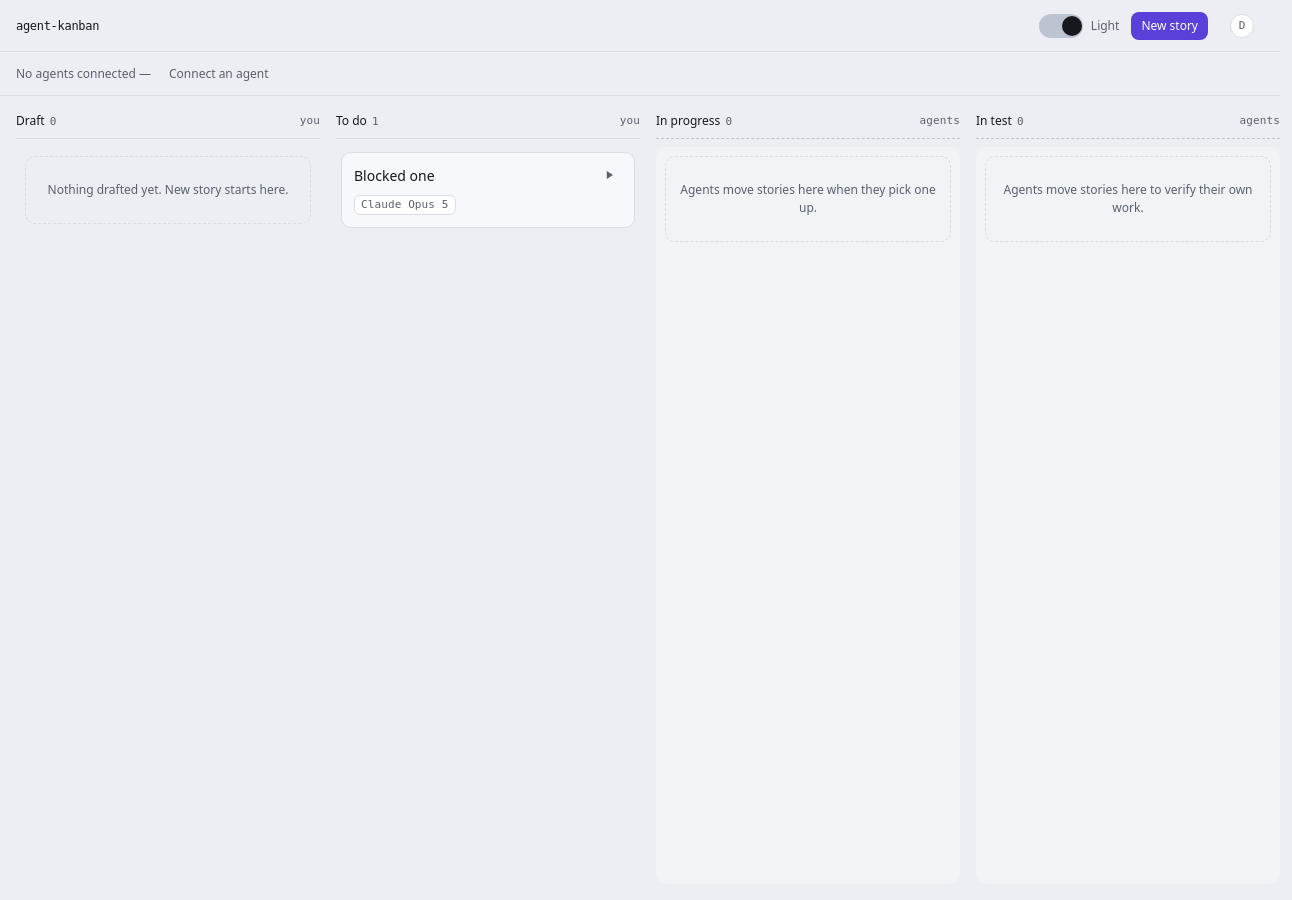
it: BoardScreen — play and stop › shows a refused play as a dismissable toast
Expected: the button "Blocked one" is shown, [354, 165, 622, 187]
Click the button named "Start Blocked one". click: (609, 175)
box: [592, 161, 626, 189]
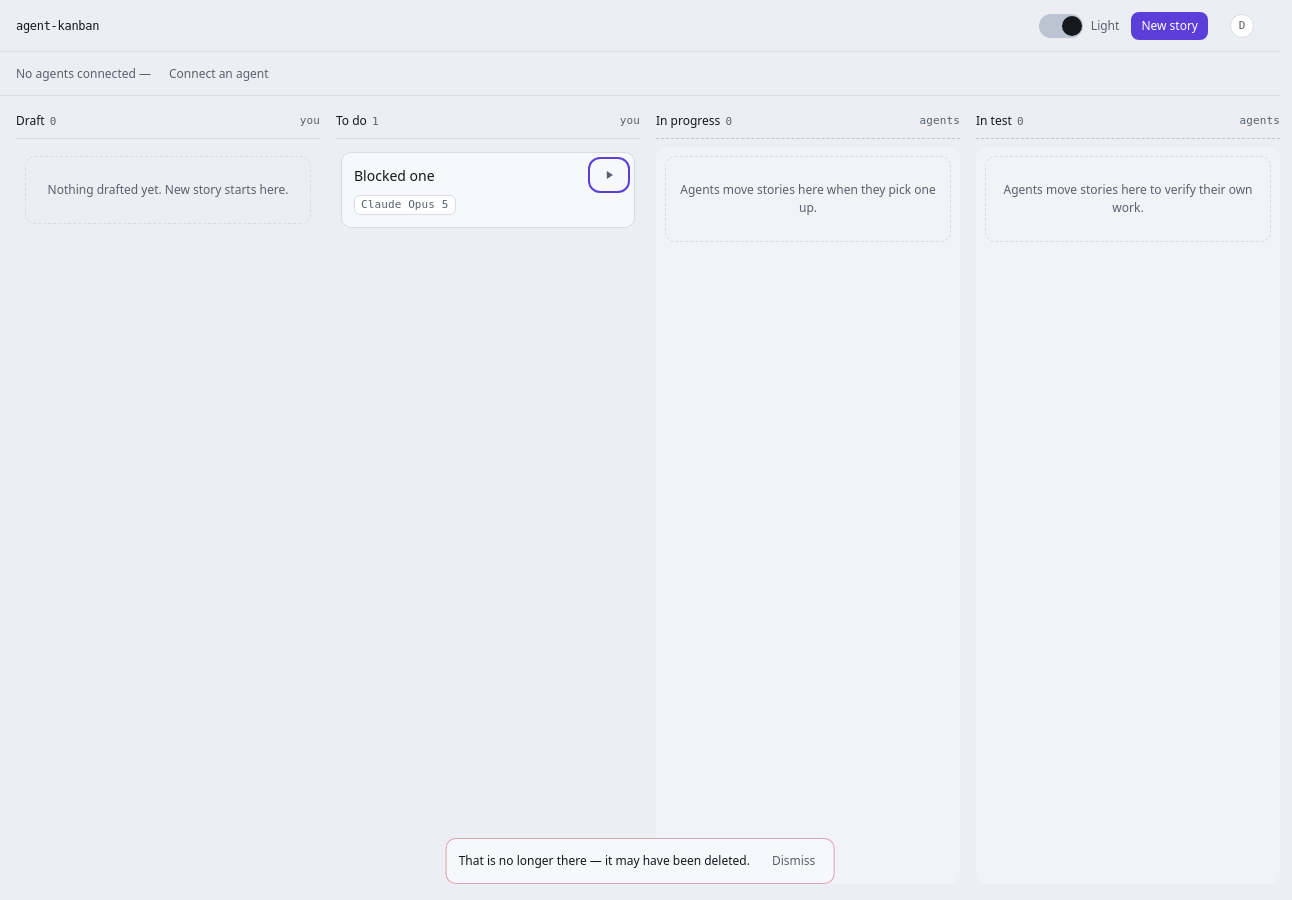
Expected: the message shows "That is no longer there — it may have been deleted.", [459, 852, 750, 869]
